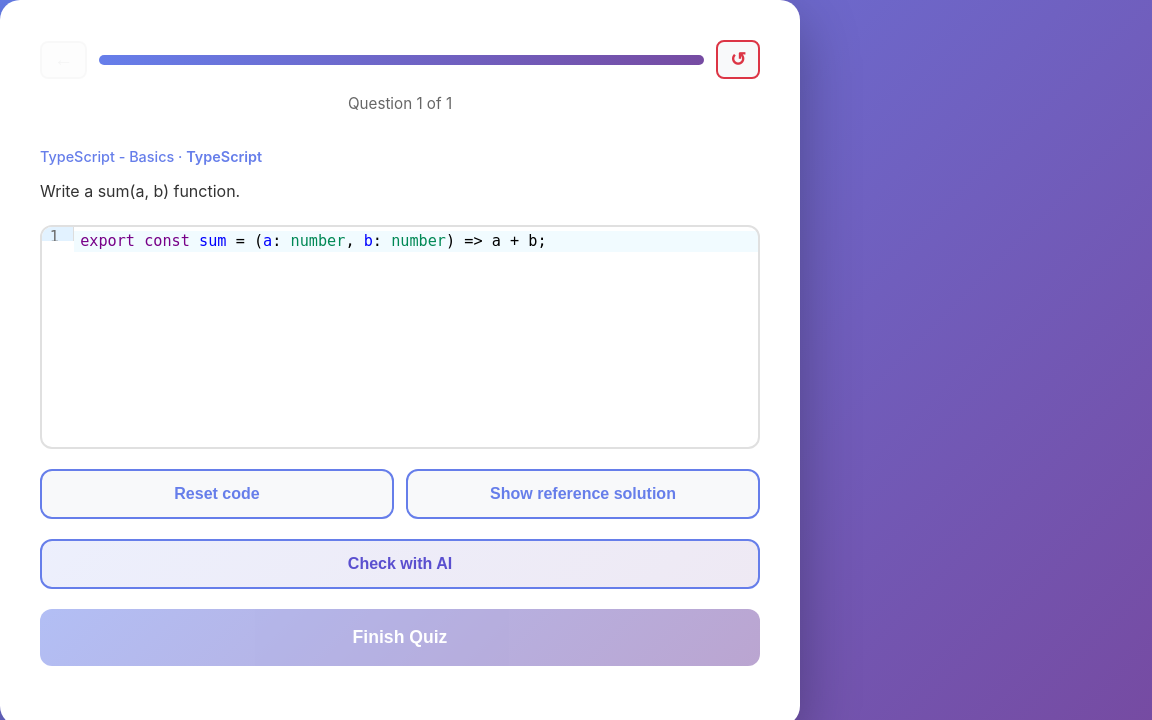
Test case: QuizScreen - AI grading › keeps the grade in the saved progress
What coordinates should you click on to do the following:
click the button "Check with AI"
I would click on:
 (400, 564)
Its box is [40,539,760,589].
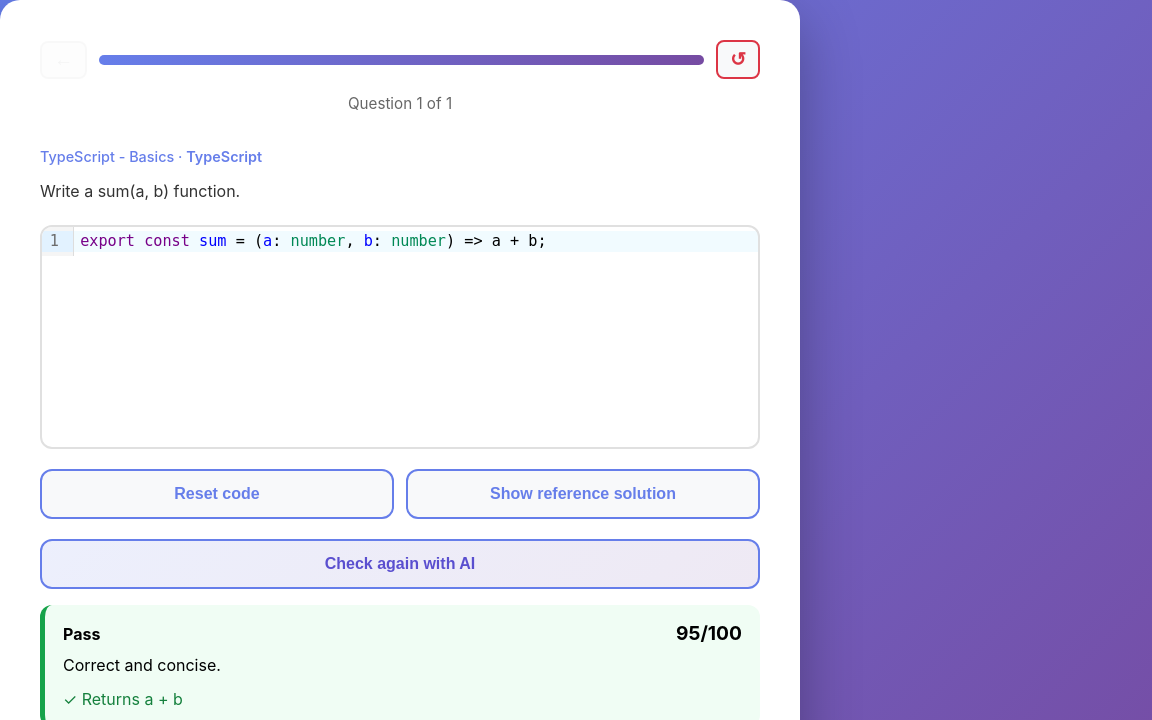
Expected: the text "Correct and concise." is shown, [63,655,221,675]
